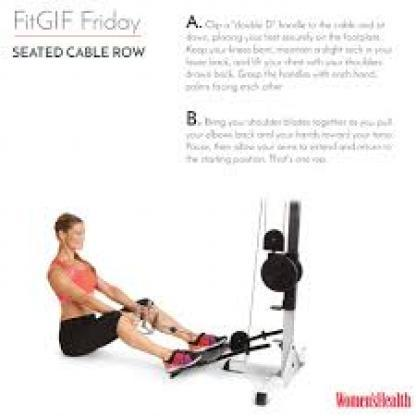Seated Cable Rows: (47, 179, 346, 409)
